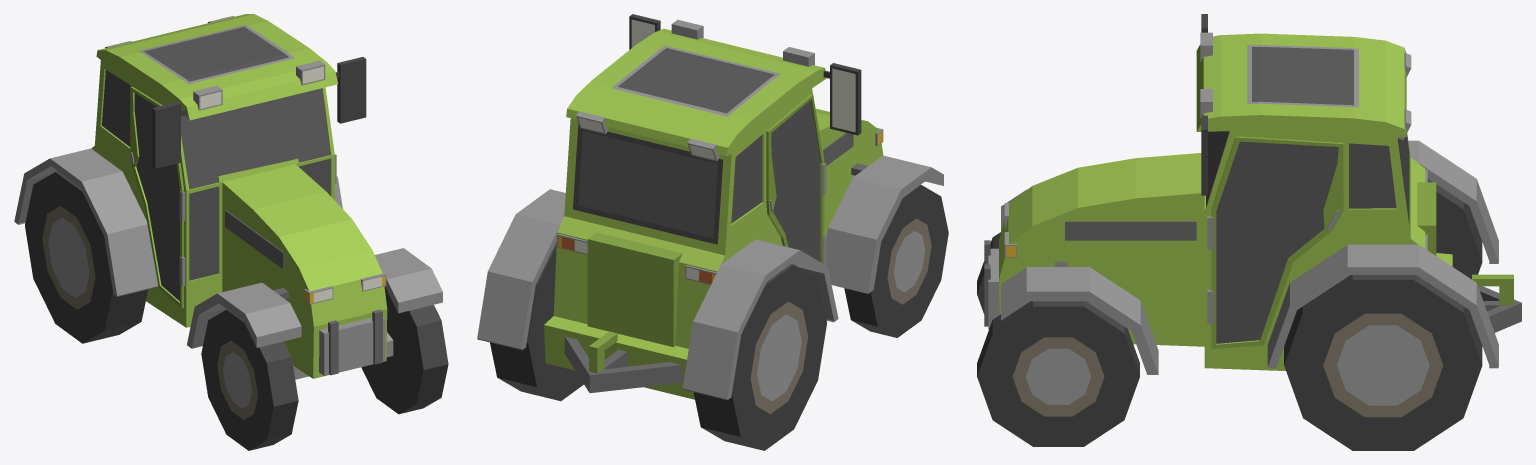
Rendered from kar_2.fbx.
The picture shows the model from 3 angles, left to right: view 1: azimuth 30°, elevation 25°; view 2: azimuth 150°, elevation 25°; view 3: azimuth 270°, elevation 25°; orthographic projection. The views are drawn at different scales.
Parts seen in each view (by area): view 1: Boole_2, Cylinder_5, Cylinder_2, Cylinder; view 2: Boole_2, Cylinder_5, Cylinder_2, Cylinder_1; view 3: Boole_2, Cylinder_1, Cylinder, Cylinder_5.
Part boxes in pixels (bbox=[...]): Boole_2: bbox=[14, 14, 442, 379]; Cylinder_5: bbox=[25, 171, 148, 343]; Cylinder_2: bbox=[201, 309, 298, 450]; Cylinder: bbox=[361, 287, 448, 414]; Boole_2: bbox=[477, 14, 943, 400]; Cylinder_5: bbox=[693, 264, 826, 450]; Cylinder_2: bbox=[844, 185, 948, 337]; Cylinder_1: bbox=[490, 242, 583, 401]; Boole_2: bbox=[984, 14, 1521, 374]; Cylinder_1: bbox=[1284, 275, 1482, 450]; Cylinder: bbox=[977, 301, 1139, 446]; Cylinder_5: bbox=[1427, 179, 1482, 279].
Bounding box in the file's own units: 213 × 260 × 387.
